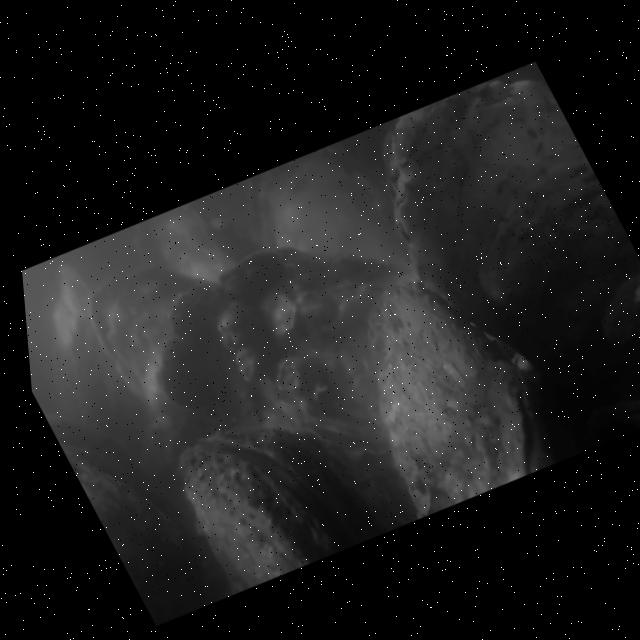Oyster-Closed: (361, 281, 546, 514), (181, 425, 393, 593), (61, 441, 199, 602)
Oyster-Indeterminate: (380, 66, 640, 384), (156, 245, 430, 467), (82, 265, 212, 412), (249, 159, 401, 263), (144, 205, 243, 276), (585, 397, 640, 431)
